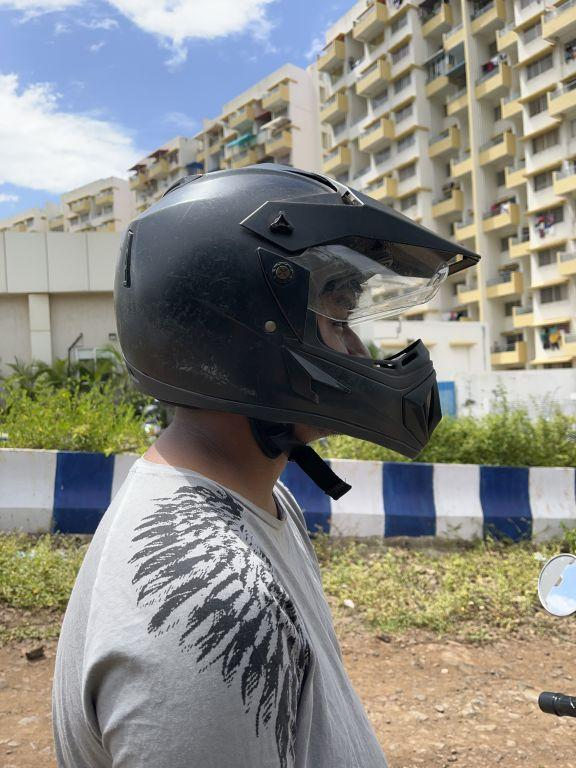helmet: (105, 150, 490, 474)
